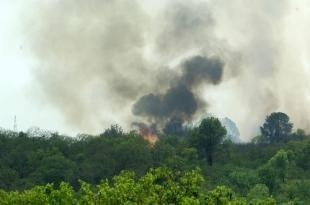fire: (139, 128, 157, 144)
